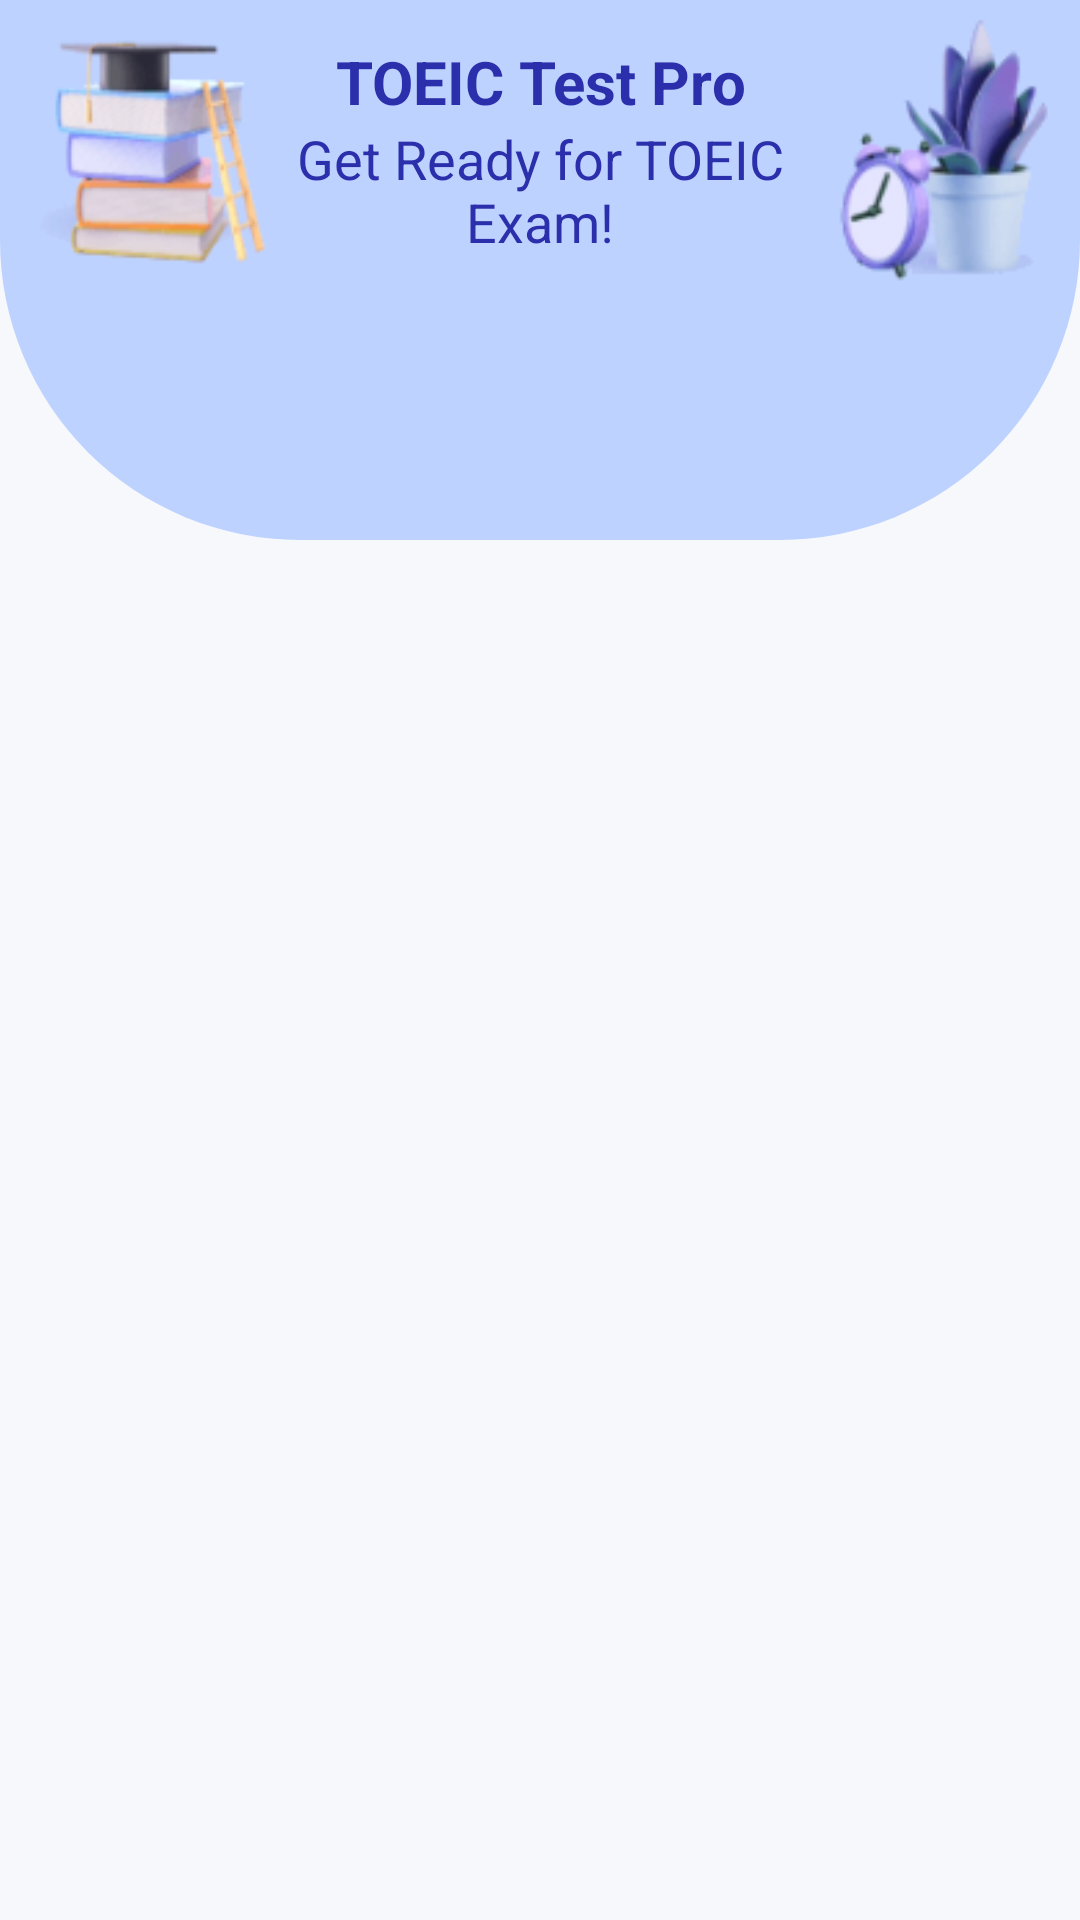

Screen size 1080px×1920px. Icon name, then its center in pixels as [x,y]:
decor book: [160,152]
decor clock: [944,153]
